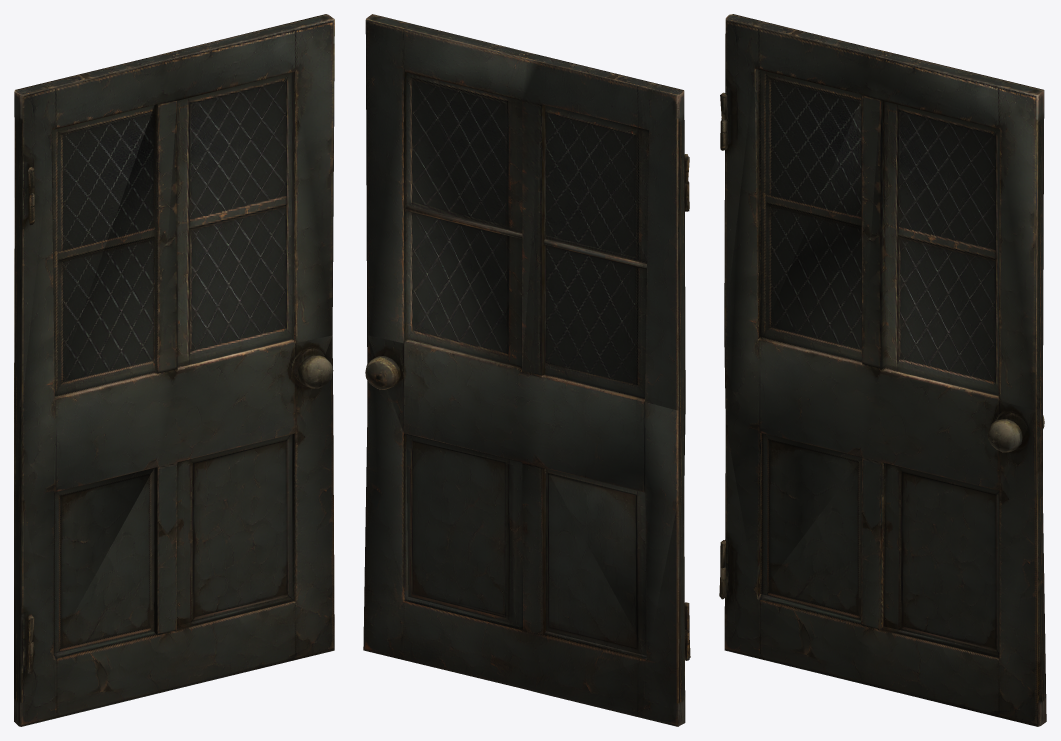
File: door5.fbx
3 renders of one model, left to right at view 1: azimuth 30°, elevation 25°; view 2: azimuth 150°, elevation 25°; view 3: azimuth 330°, elevation 25°, orthographic.
Parts seen in each view (by area): view 1: mesh_node; view 2: mesh_node; view 3: mesh_node.
Part boxes in pixels (x1,y1,x2,y2): mesh_node: (14, 14, 334, 726); mesh_node: (363, 14, 690, 726); mesh_node: (719, 14, 1046, 726).
Size of the model in its own units: 52.34 by 100 by 10.16.
1 material, 1 textured.
